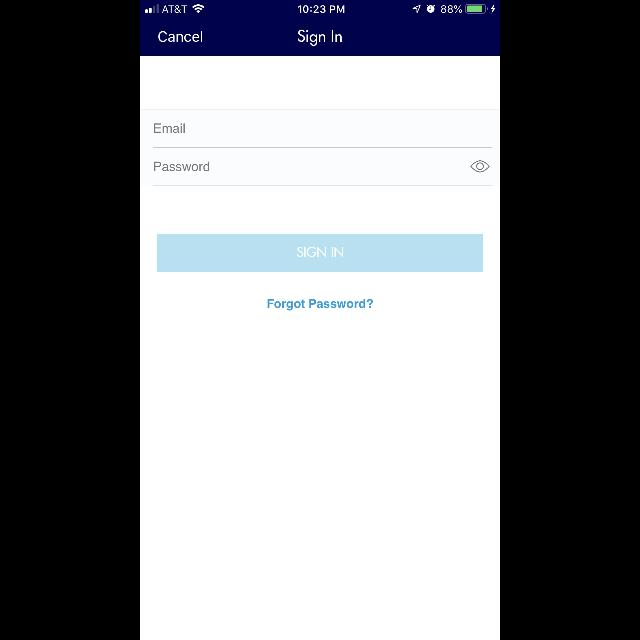icon: (470, 161, 490, 173)
input: (153, 160, 492, 186), (153, 124, 491, 148)
text: (268, 300, 372, 310), (298, 30, 342, 46), (154, 162, 210, 172), (159, 32, 203, 42), (155, 123, 185, 133)
textbutton: (157, 234, 483, 272)
uppertaskbar: (140, 0, 500, 14)
